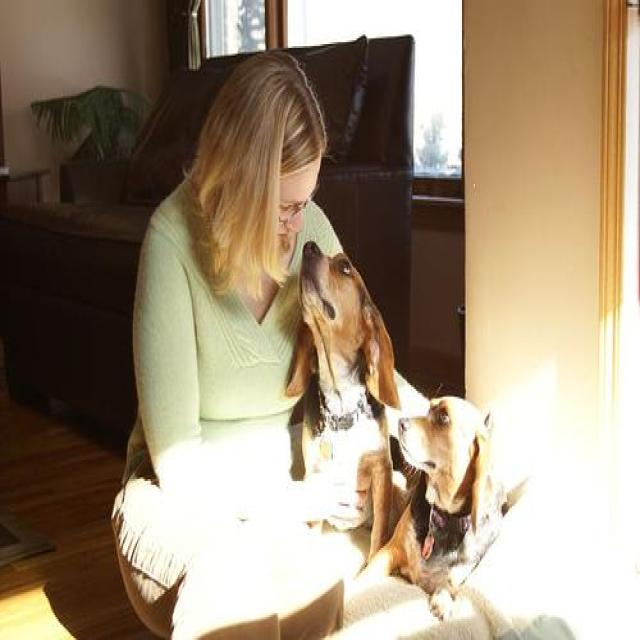beagle: (281, 238, 408, 563), (346, 398, 510, 622)
